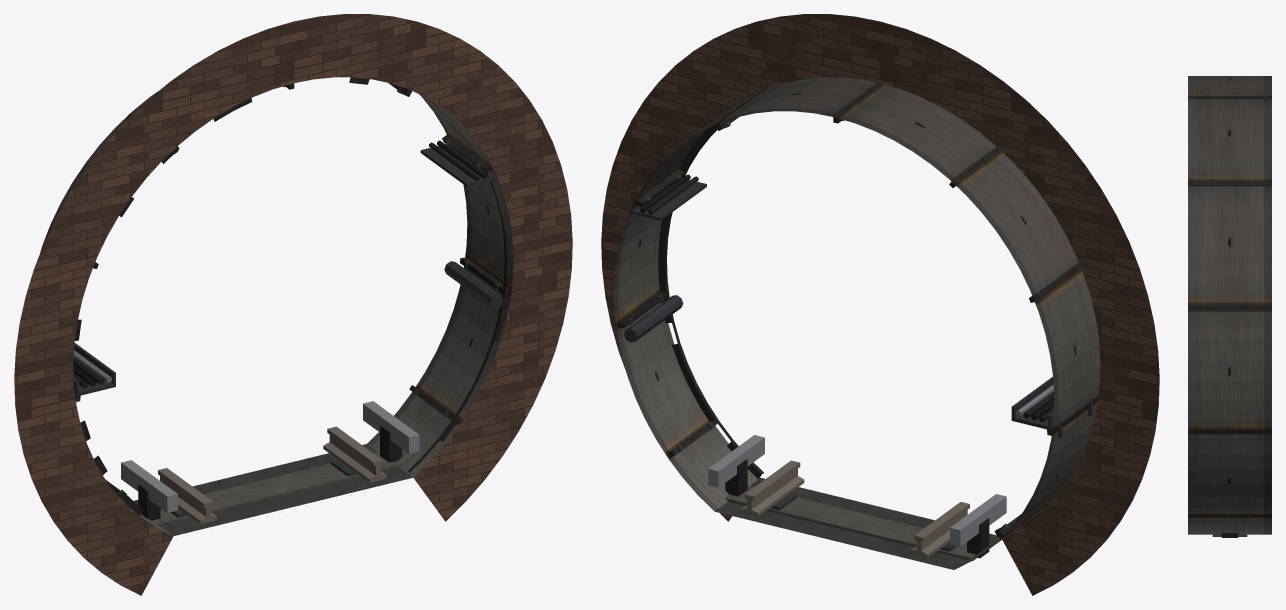
File: tunnel_segment.glb
The picture shows the model from 3 angles, left to right: view 1: azimuth 30°, elevation 25°; view 2: azimuth 150°, elevation 25°; view 3: azimuth 270°, elevation 25°; orthographic projection. The views are drawn at different scales.
Visible parts, largest first — view 1: seg_mouth, seg_iron; view 2: seg_iron, seg_mouth; view 3: seg_iron.
Boxes of the visible parts, x1=… form: seg_mouth: x1=14, y1=14, x2=572, y2=595; seg_iron: x1=40, y1=77, x2=513, y2=535; seg_iron: x1=614, y1=77, x2=1100, y2=569; seg_mouth: x1=601, y1=14, x2=1159, y2=595; seg_iron: x1=1188, y1=76, x2=1271, y2=537.
Size of the model in its own units: 4.25 by 3.91 by 0.6101.
12 materials, 6 textured.
